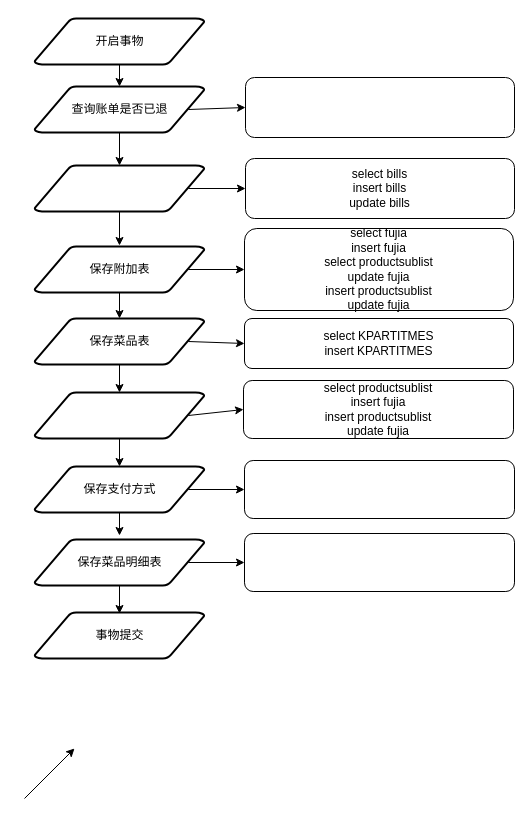
Image size: 532x824. Some labels were removed from this diagram. The centre of each missing label's shape, as x and y in pixels:
"select bills" goes at point (379, 107).
"select KPARTITMES insert kpartitmesitem update fujia update productsublist" goes at point (379, 562).
"select SETTLEMENT settlementoperate insert SETTLEMENT" goes at point (379, 489).
"保存套餐明细表" goes at point (119, 415).
"保存账单表" goes at point (119, 188).
